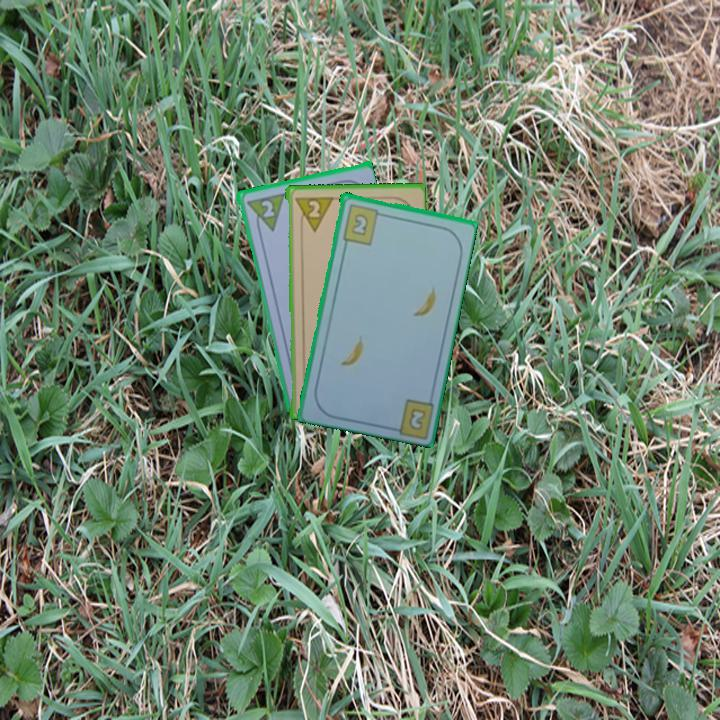2b: (339, 200, 386, 247), (405, 404, 429, 431)
2p: (291, 193, 334, 234), (257, 196, 277, 220)
